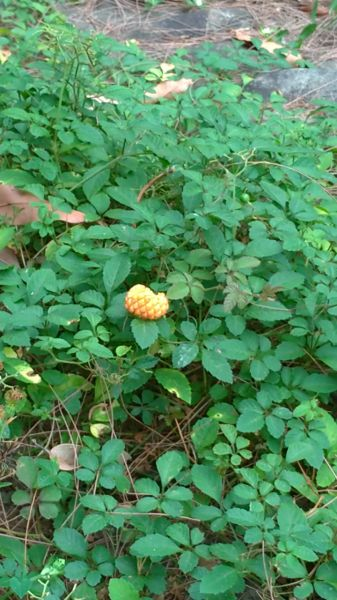eggs: (120, 281, 178, 325)
